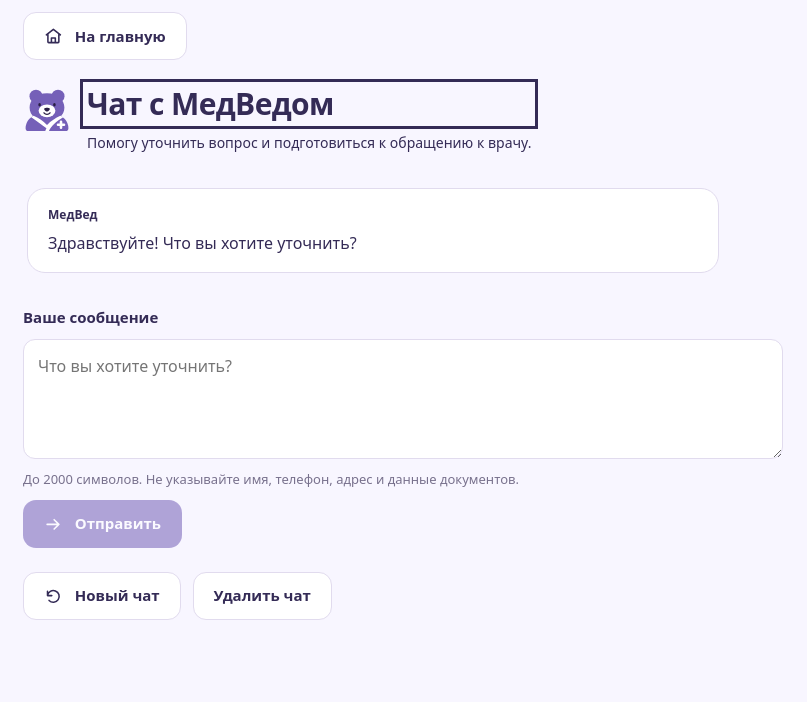
Test: lost request preserves the text and reuses the same message ID on retry
Expected: the text "Здравствуйте! Что вы хотите уточнить?" is shown, [48, 232, 357, 254]
Type "Уточню вопрос" into the text box labelled "Ваше сообщение" at [403, 399], box [23, 339, 783, 459]
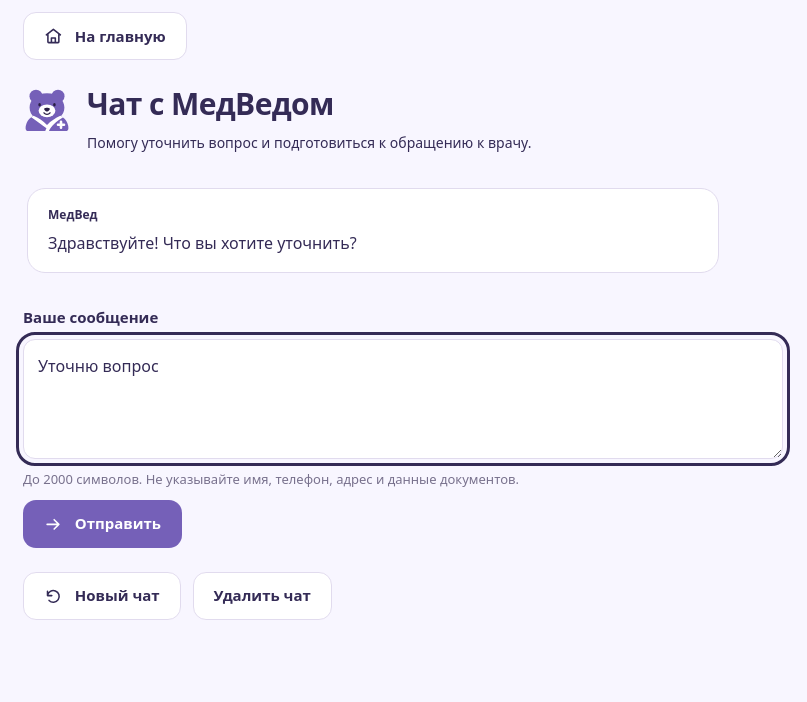
Click the button "Отправить" at [103, 524], box [23, 500, 182, 548]
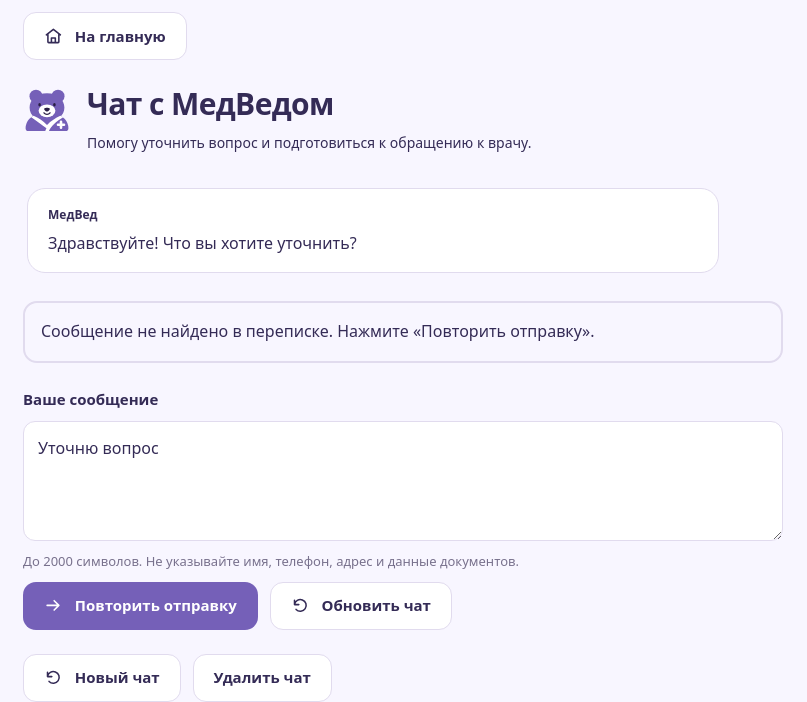
Result: the text "Сообщение не найдено в переписке. Нажмите «Повторить отправку»." is shown at [41, 320, 594, 342]
Click the button "Повторить отправку" at [140, 606], box [23, 582, 258, 630]
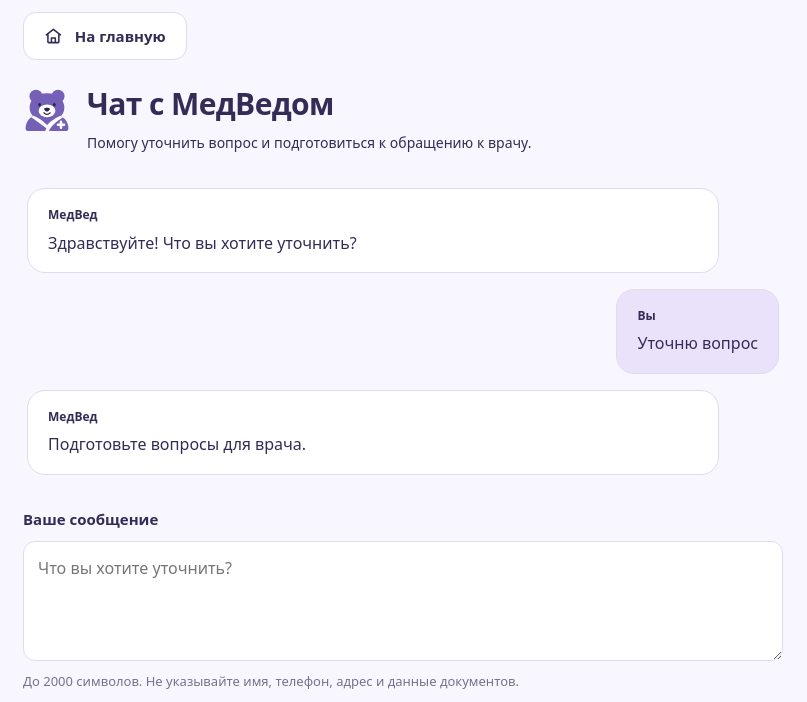
Result: the text "Подготовьте вопросы для врача." is shown at [48, 433, 306, 455]
